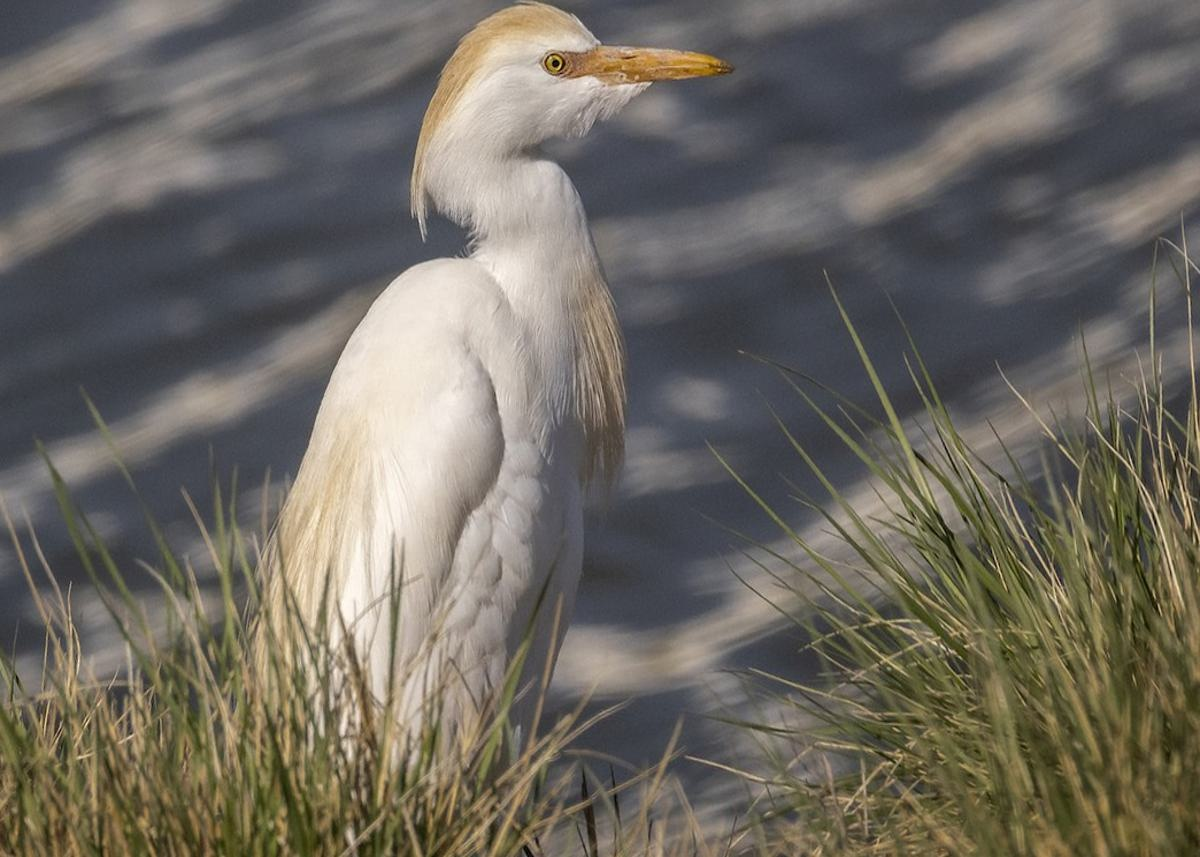egret: (256, 5, 749, 792)
